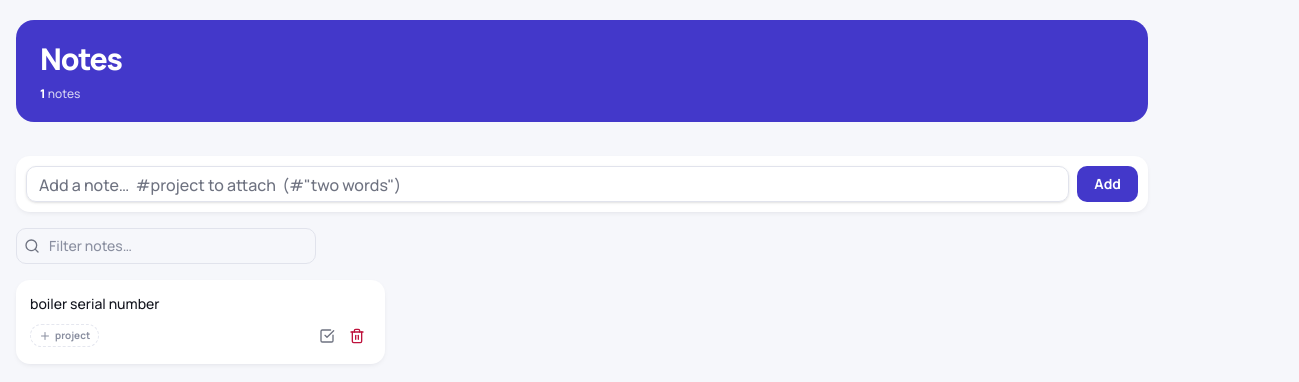
it: deleting a note › removes the card at once and offers an undo instead of a confirmation
Click the button named "Delete this note": click(357, 336) [343,322,371,350]
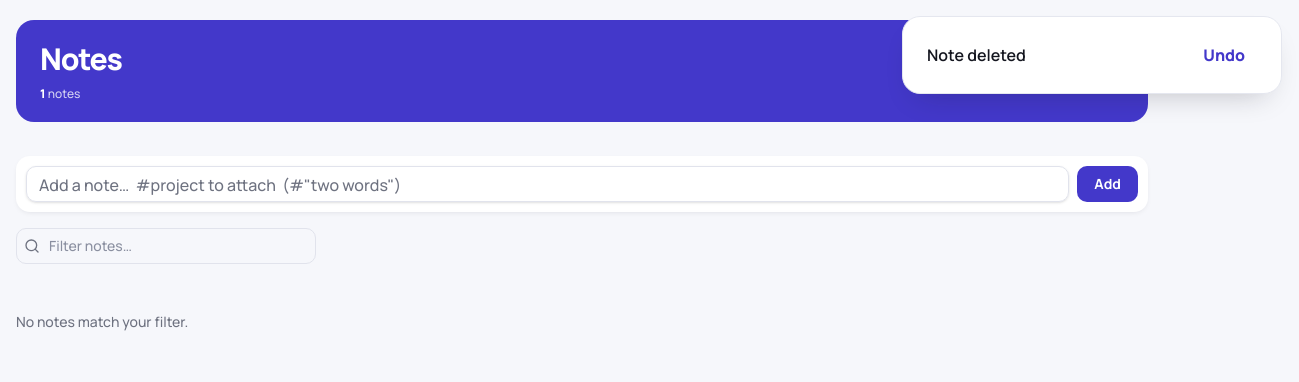
Now the button "boiler serial number" is gone
Now the button "Undo" is shown, box [1191,37,1257,73]
